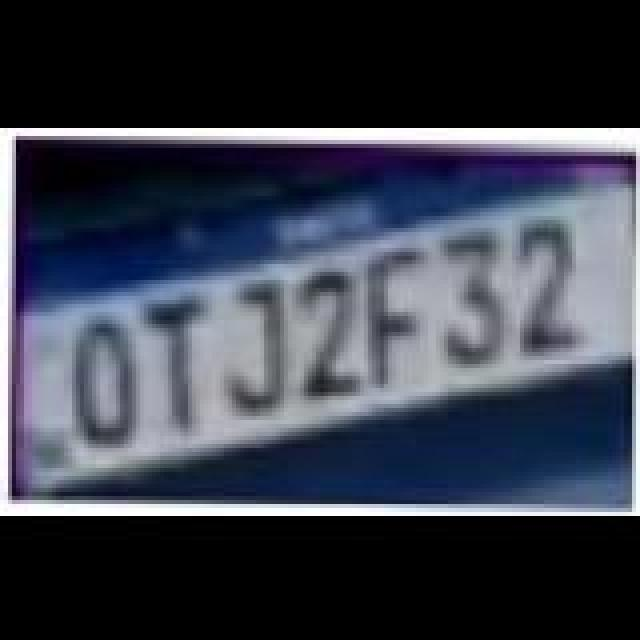2: (504, 216, 584, 352), (288, 266, 368, 398)
3: (438, 226, 514, 366)
F: (358, 246, 434, 386)
J: (220, 278, 300, 418)
O: (64, 314, 144, 446)
T: (142, 292, 218, 428)
